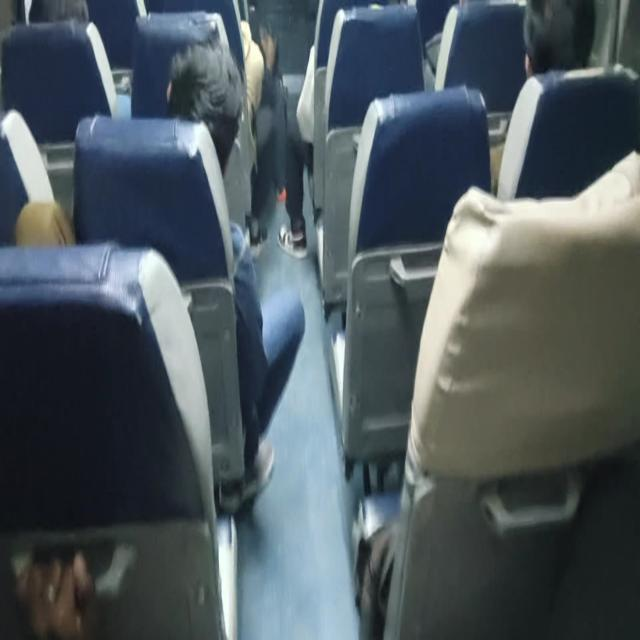person: (163, 48, 246, 154), (526, 0, 598, 78), (24, 0, 92, 31)
